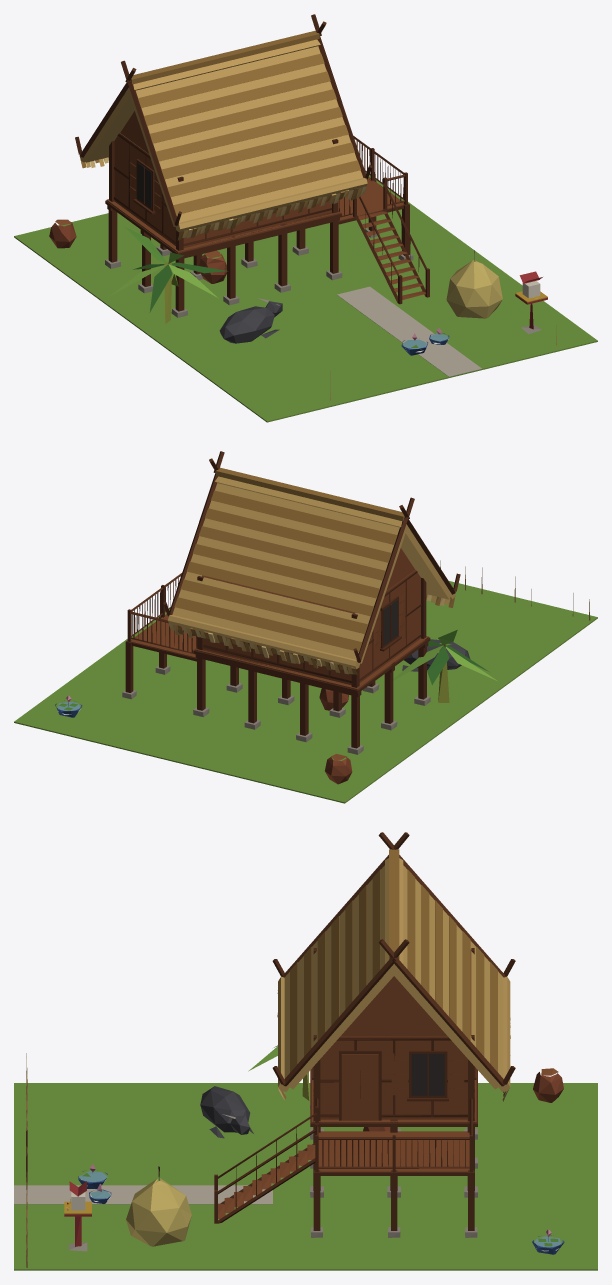
File: house12_1.glb
3 views of the same model, one above another, from view 1: azimuth 30°, elevation 25°; view 2: azimuth 150°, elevation 25°; view 3: azimuth 270°, elevation 25° (orthographic). The views are drawn at different scales.
Visible parts, largest first — view 1: body; view 2: body, windows; view 3: body, windows.
Boxes of the visible parts, x1,y1,x2,y2 form: body: [14, 14, 597, 422]; body: [14, 451, 597, 803]; windows: [383, 599, 398, 645]; body: [14, 832, 597, 1270]; windows: [411, 1054, 444, 1095].
Size of the model in its own units: 13.08 by 8.07 by 15.9.
